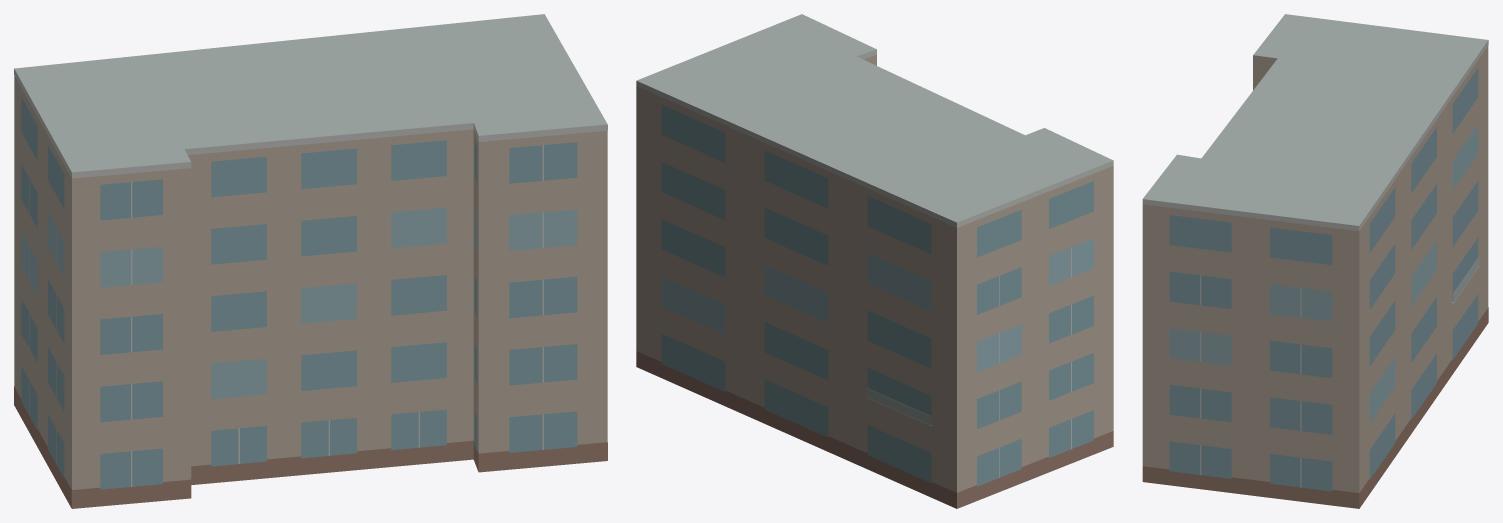
Rendered from survey-upis-32877715.glb.
The picture shows the model from 3 angles, left to right: view 1: azimuth 30°, elevation 25°; view 2: azimuth 150°, elevation 25°; view 3: azimuth 270°, elevation 25°; orthographic projection. The views are drawn at different scales.
Visible parts, largest first — view 1: survey-upis-32877715.tmp; view 2: survey-upis-32877715.tmp; view 3: survey-upis-32877715.tmp.
Boxes of the visible parts, x1=… form: survey-upis-32877715.tmp: x1=14, y1=14, x2=607, y2=508; survey-upis-32877715.tmp: x1=636, y1=14, x2=1113, y2=508; survey-upis-32877715.tmp: x1=1142, y1=14, x2=1488, y2=508.
Bounding box in the file's own units: 21.23 × 13.2 × 14.64.
